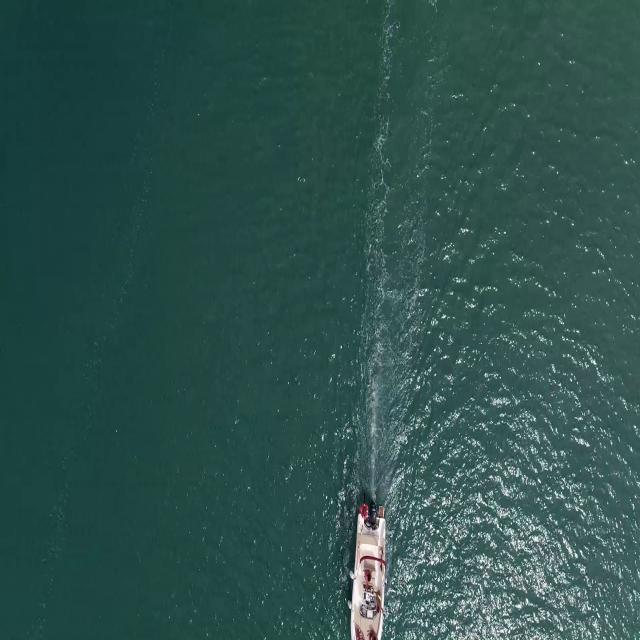boat: (350, 517, 391, 640)
life_buoy: (358, 502, 370, 516)
person: (363, 566, 373, 590), (374, 594, 384, 617)
